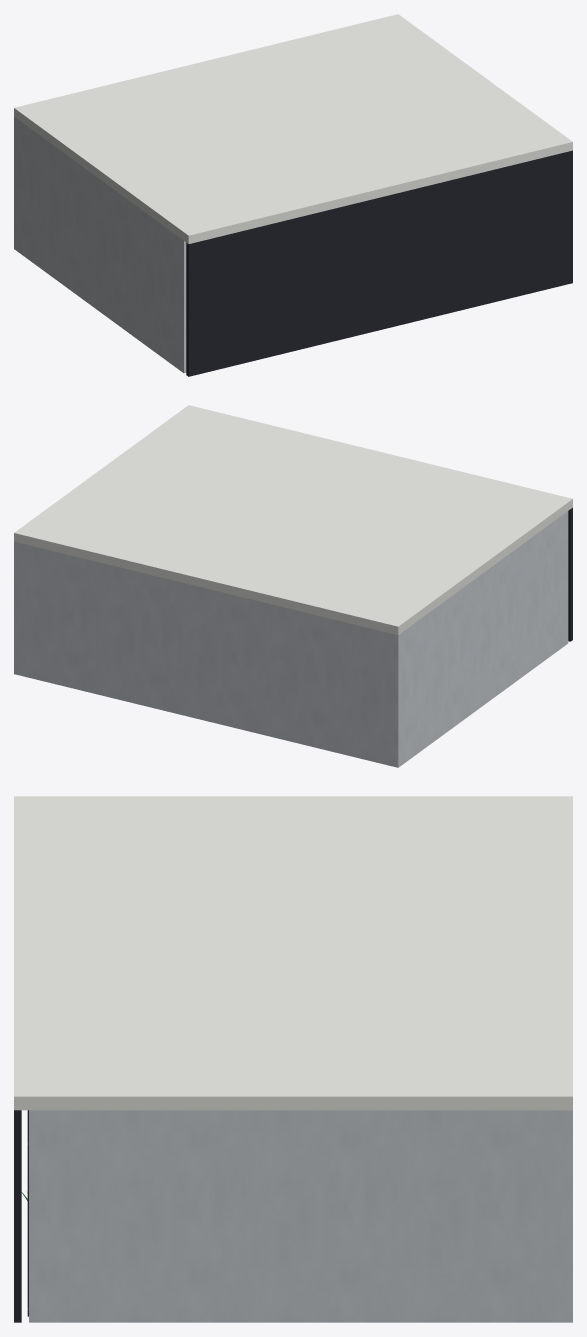
The model's file is office.glb.
3 views of the same model, one above another, from view 1: azimuth 30°, elevation 25°; view 2: azimuth 150°, elevation 25°; view 3: azimuth 270°, elevation 25° (orthographic). The views are drawn at different scales.
Parts seen in each view (by area): view 1: Shell; view 2: Shell; view 3: Shell.
Boxes of the visible parts, x1,y1,x2,y2 form: Shell: (14, 14, 572, 376); Shell: (14, 405, 572, 767); Shell: (14, 796, 572, 1322).
Size of the model in its own units: 9.4 by 3.31 by 7.4.
Materials: 30 (30 with a texture image).
